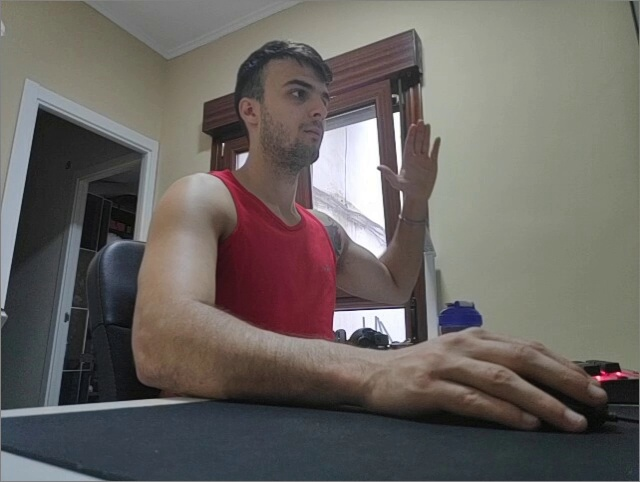Palm: (373, 119, 443, 199)
